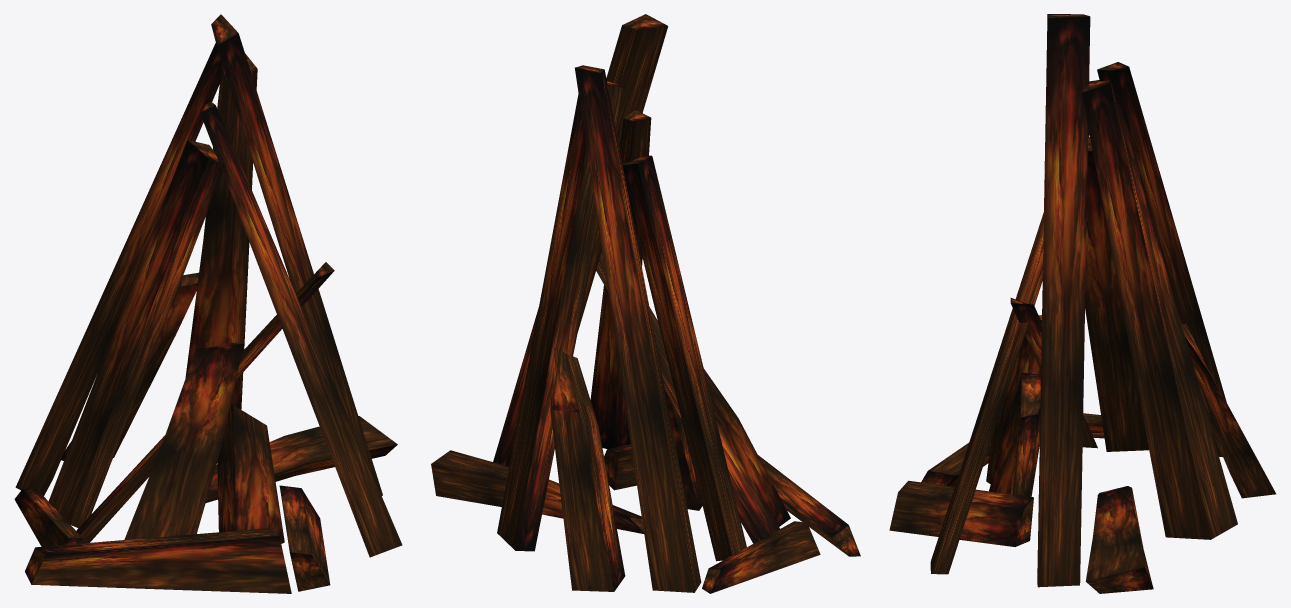
The model's file is torch_2.fbx.
3 renders of one model, left to right at view 1: azimuth 30°, elevation 25°; view 2: azimuth 150°, elevation 25°; view 3: azimuth 270°, elevation 25°, orthographic. The views are drawn at different scales.
Visible parts, largest first — view 1: Box01; view 2: Box01; view 3: Box01.
Boxes of the visible parts, x1,y1,x2,y2 form: Box01: [14, 14, 402, 593]; Box01: [431, 14, 860, 593]; Box01: [889, 14, 1276, 593].
Bounding box in the file's own units: 6.36 × 7.91 × 5.39.
